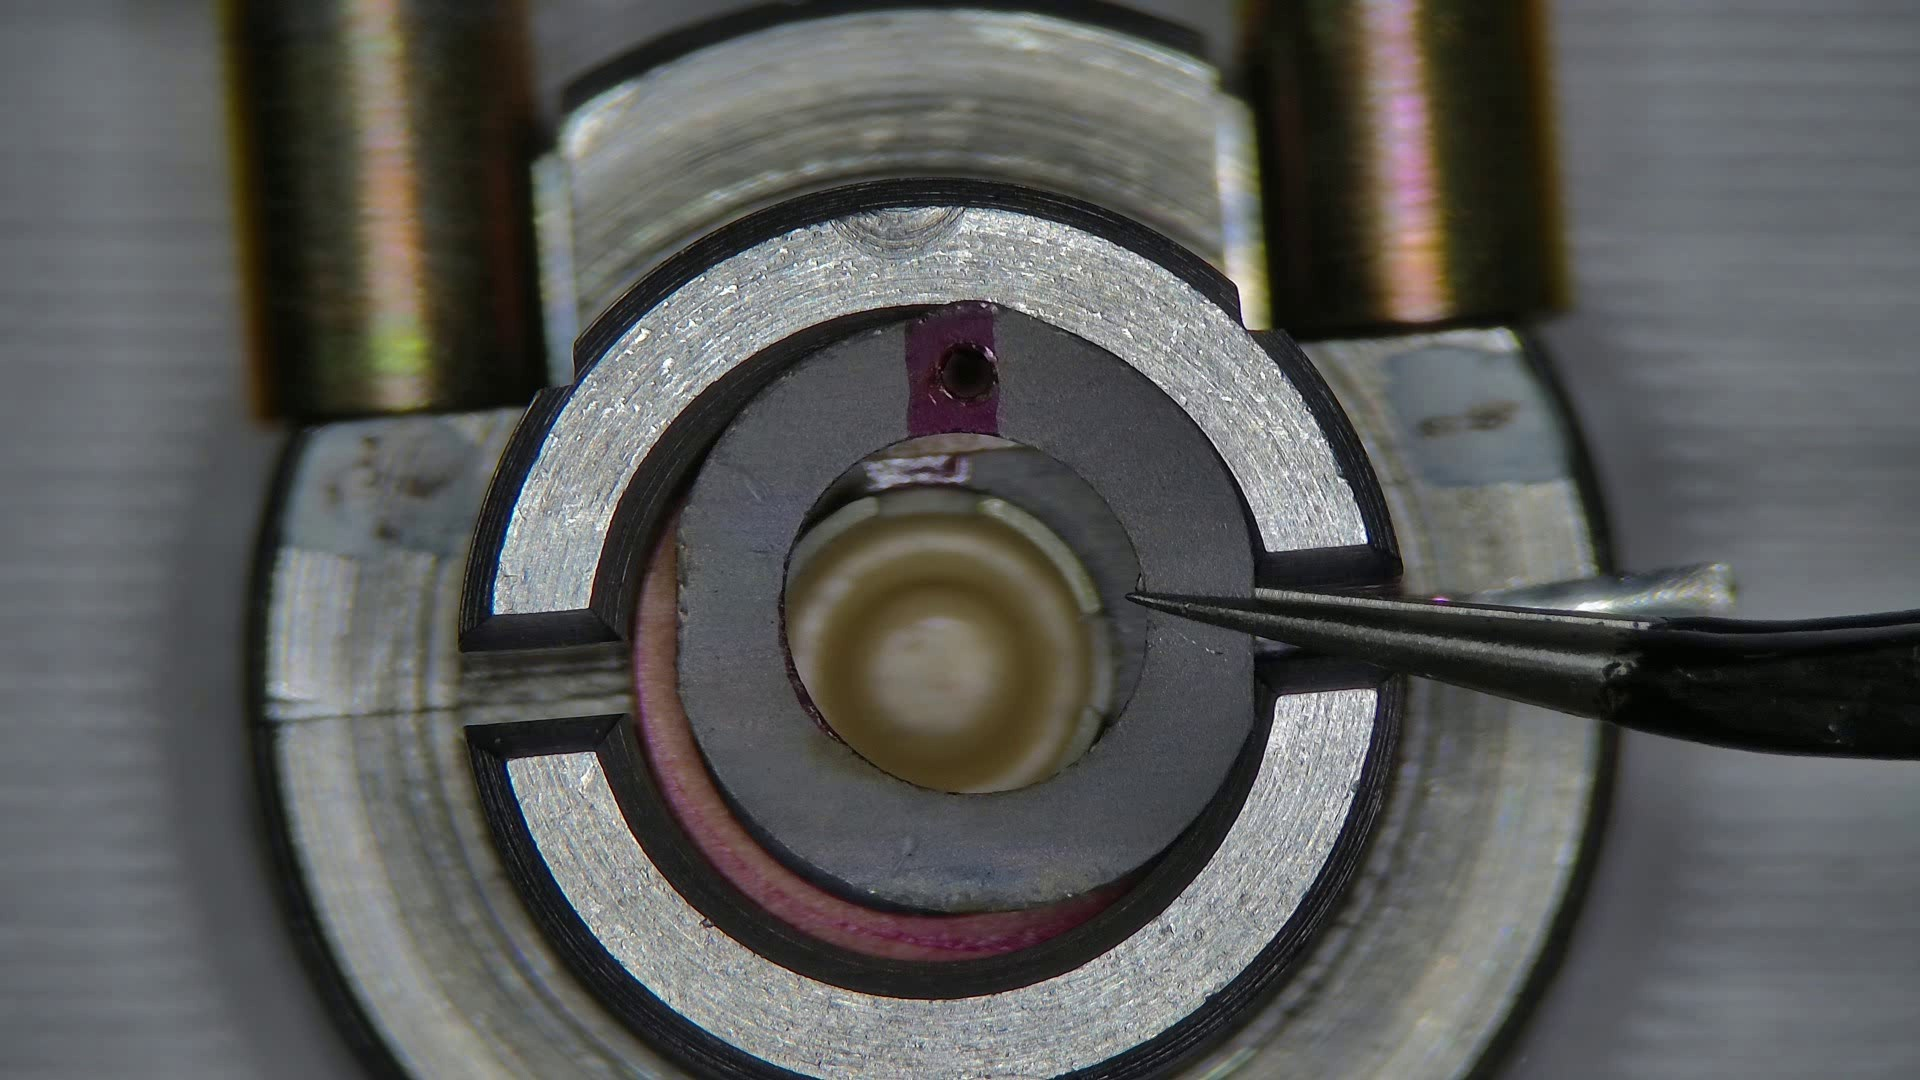GreyOring: (633, 537, 1120, 959)
YellowOring: (674, 303, 1257, 913), (804, 444, 1146, 732)
